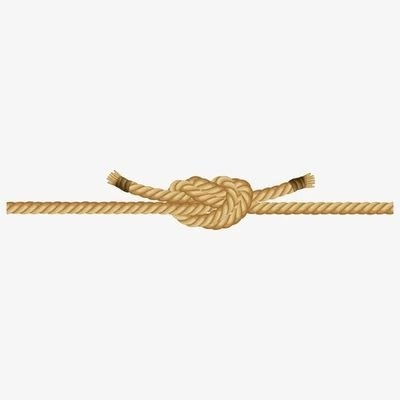9/可回收垃圾/绳子: (5, 170, 395, 230)
